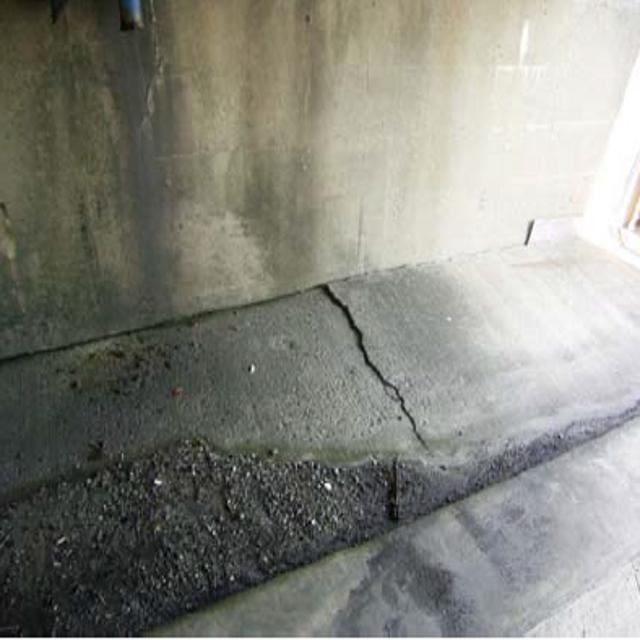crack: (319, 274, 454, 462)
